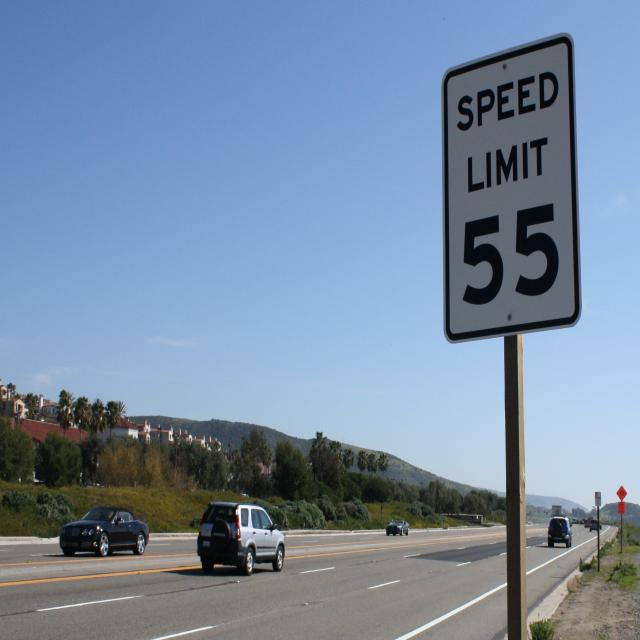speedLimit55: (442, 39, 572, 340)
